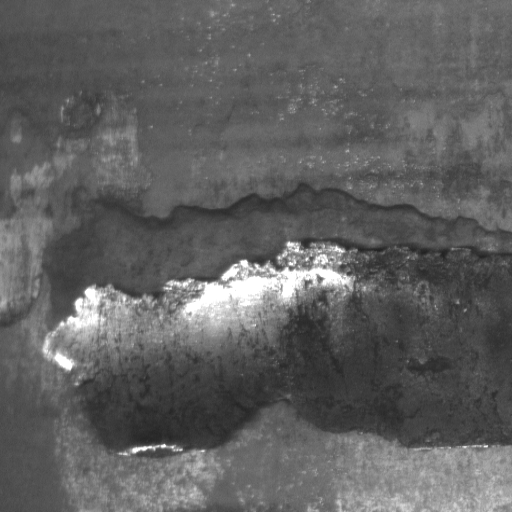qiaopi: (41, 181, 512, 462)
